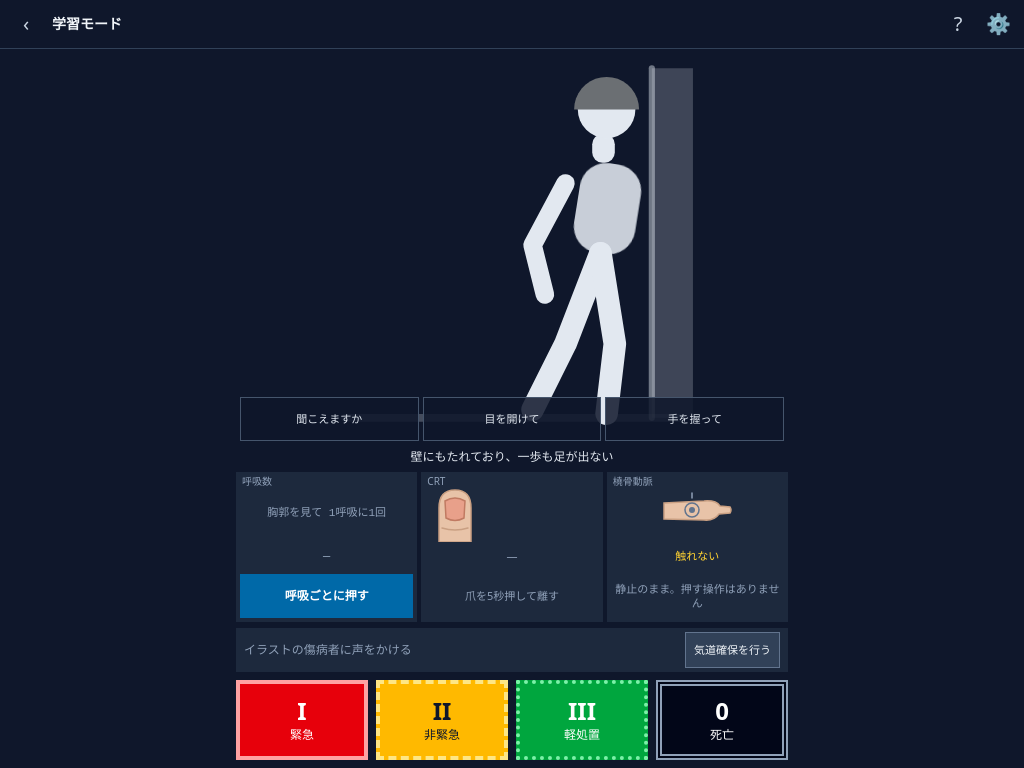
Test: 計測器からの導線 › 症例画面から「測り方」を開ける
The image size is (1024, 768).
What coordinates should you click on to do the following:
click the button named "測り方"
I would click on:
 (958, 24)
Its box is [940,6,976,42].
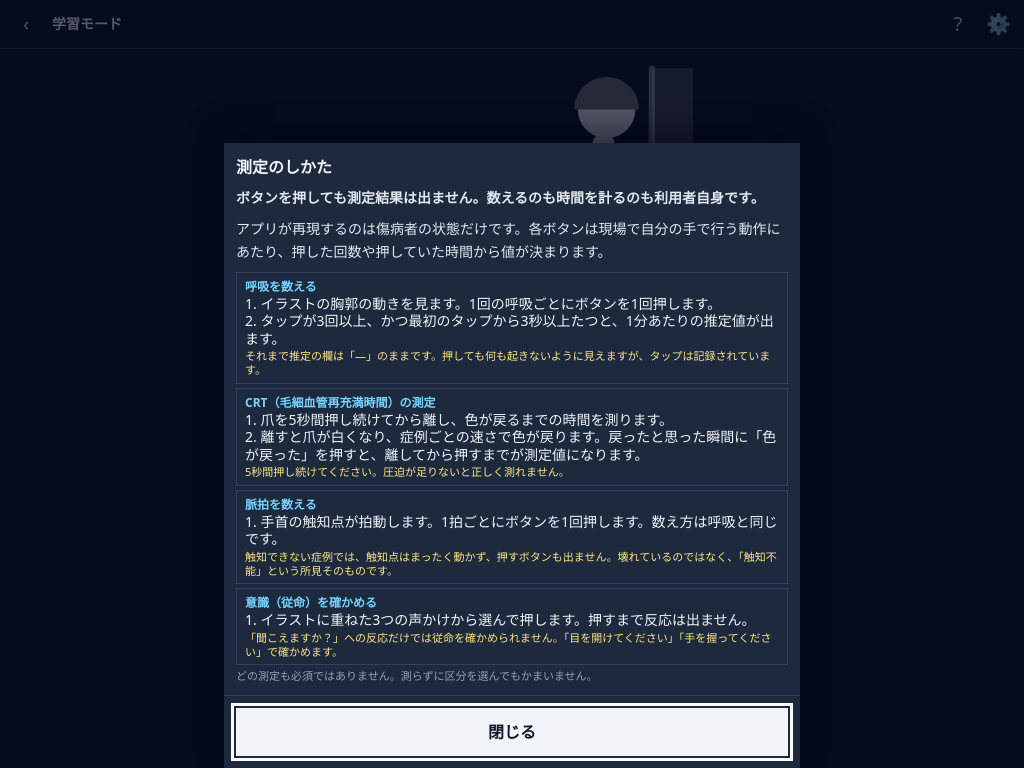
Now the text "ボタンを押しても測定結果は出ません。数えるのも時間を計るのも利用者自身です。" is shown, box [236,187,788,210]
